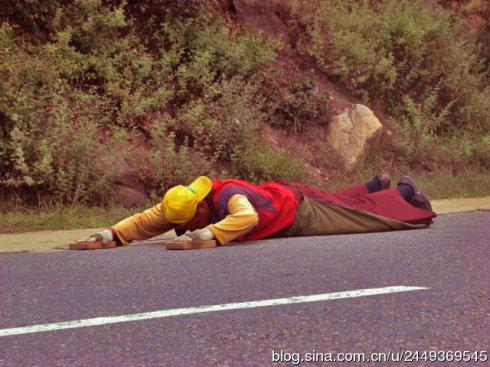fall: (67, 166, 433, 249)
